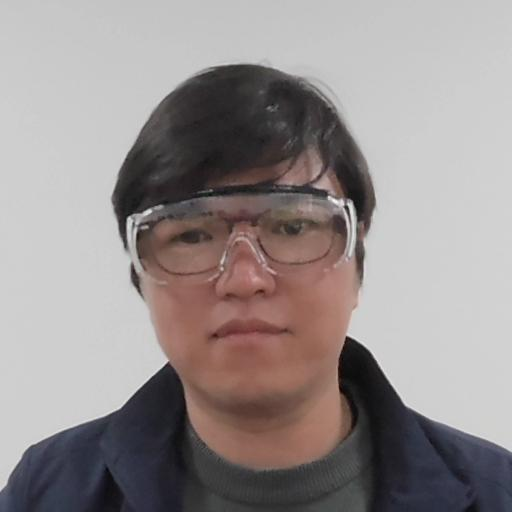glasses: (110, 63, 384, 392)
